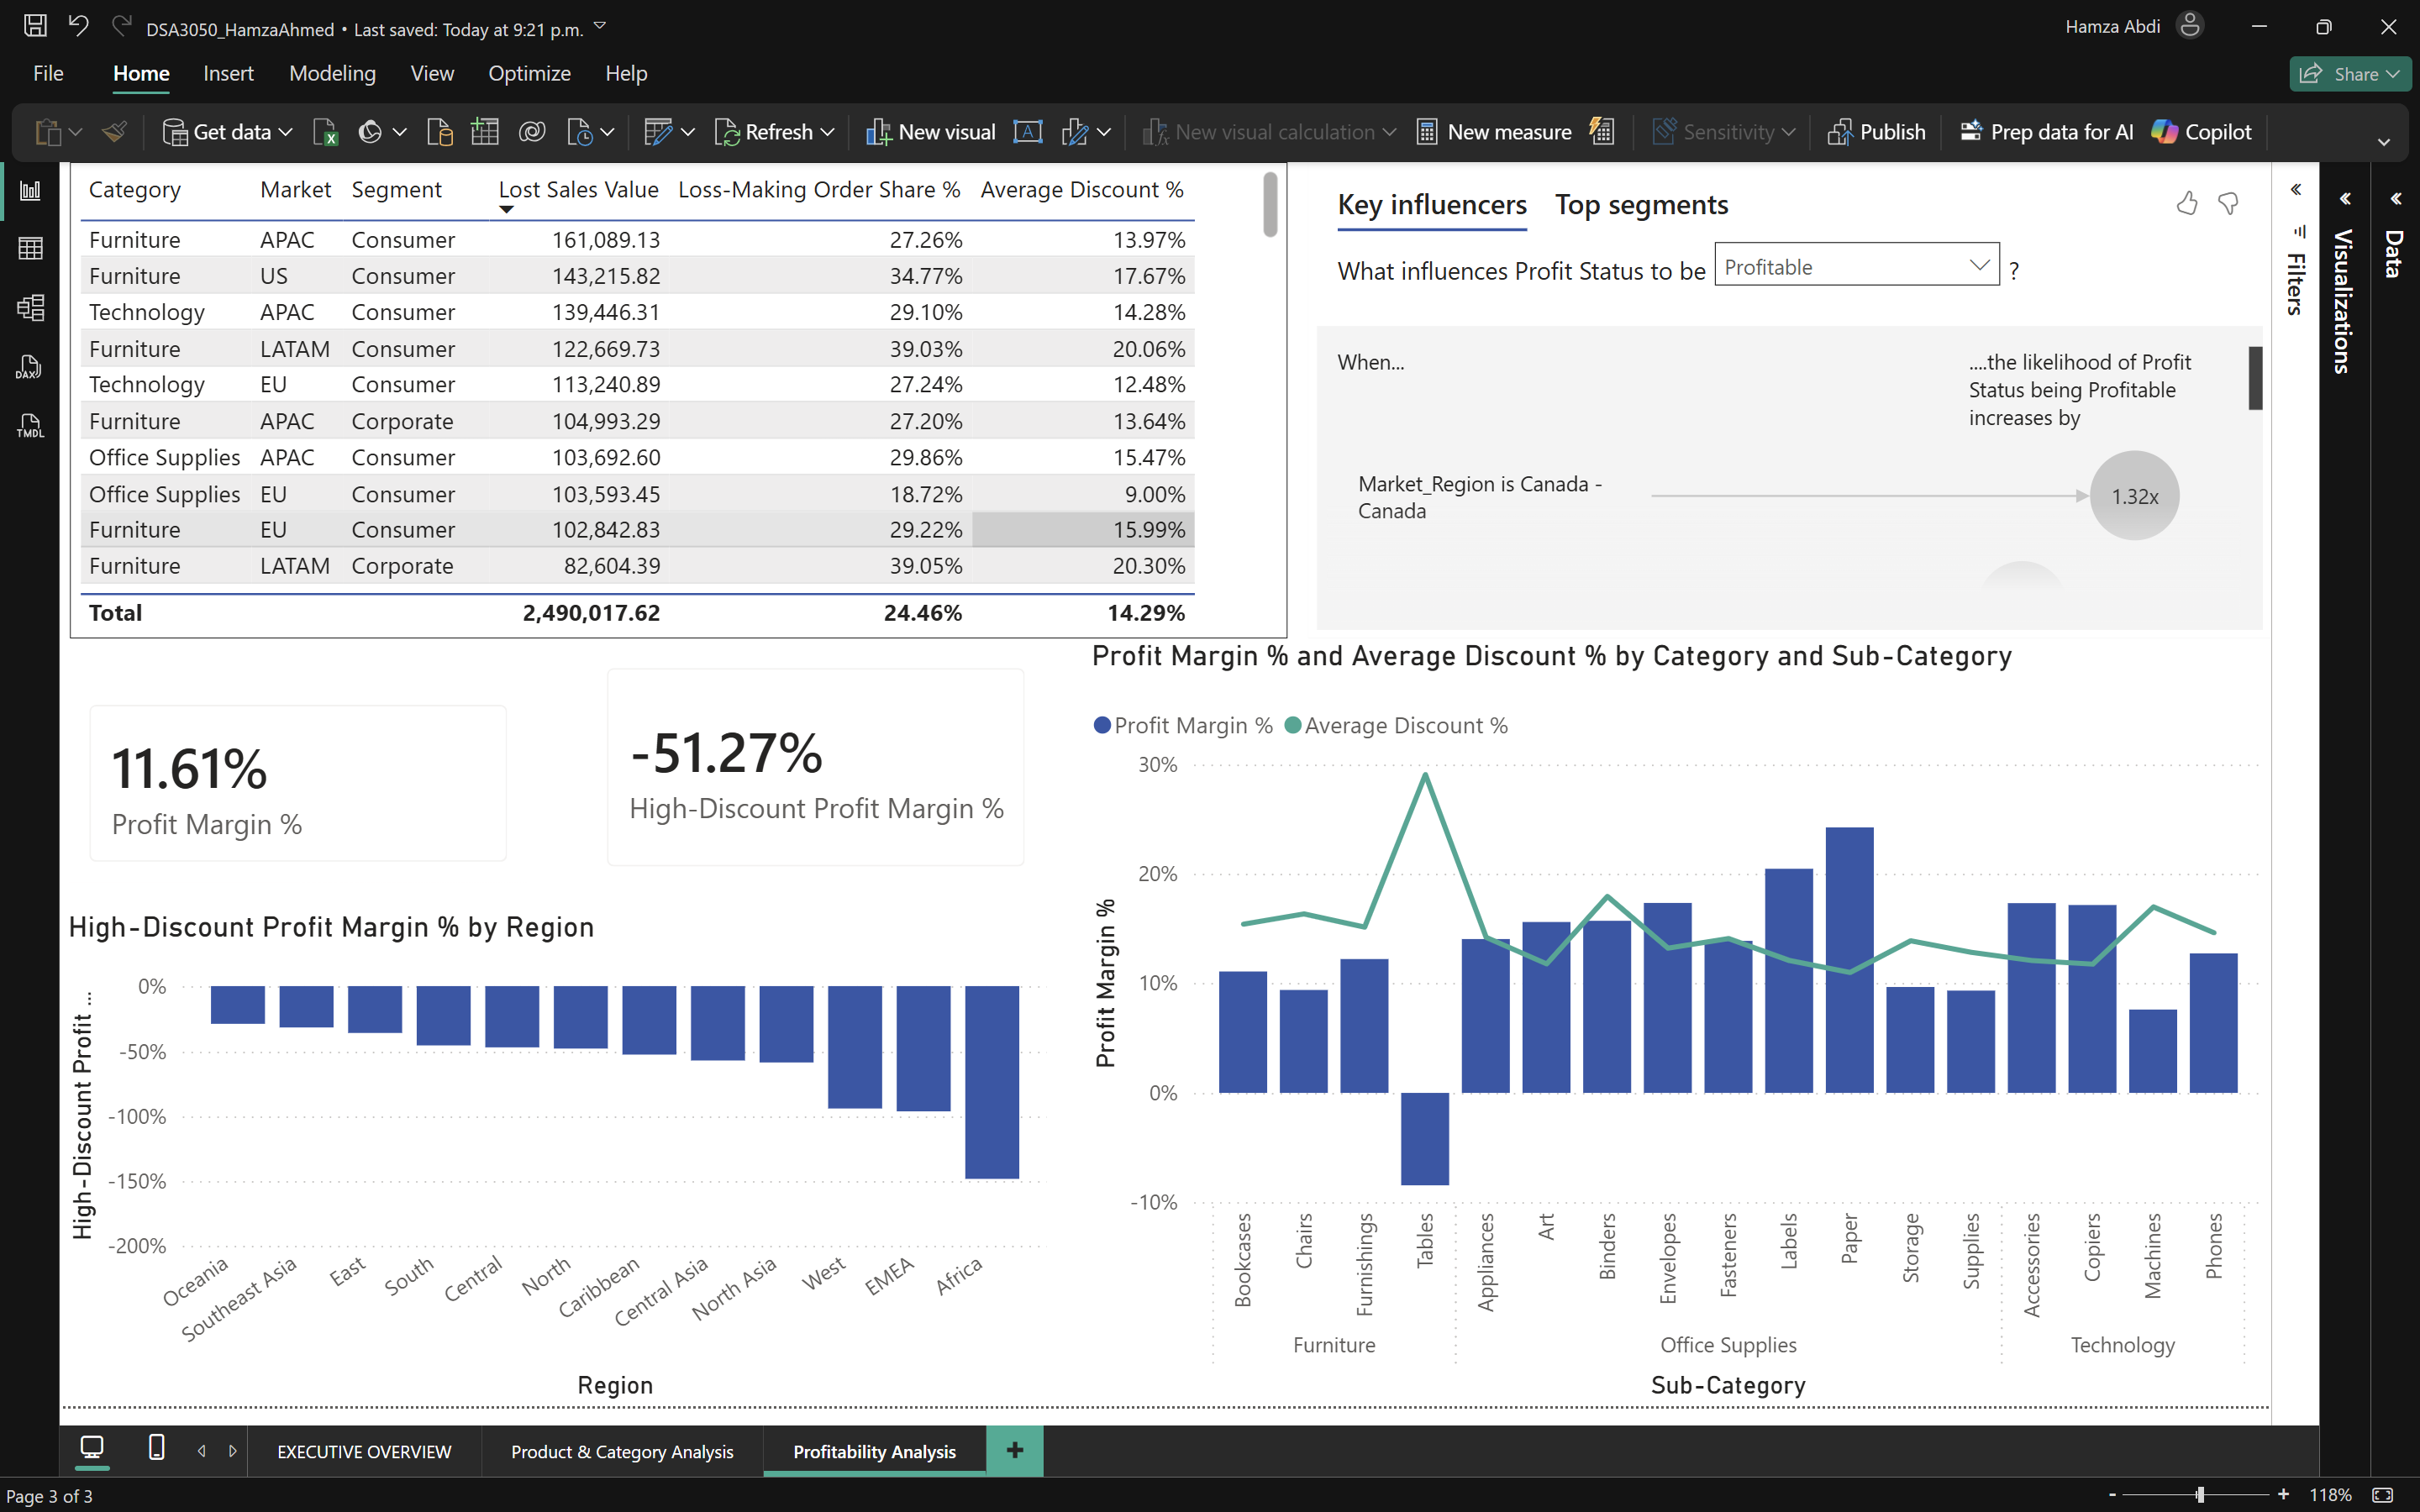

What the dashboard file says about the page in this screenshot:
{"tool":"powerbi","page":{"name":"Profitability Analysis","canvas":[1280,720],"ordinal":2},"visuals":[{"type":"cardVisual","fields":{"Data":["FactOrders.High-Discount Profit Margin %"]},"box":[299.9,275.6,276.7,150],"z":0},{"type":"cardVisual","fields":{"Data":["FactOrders.Profit Margin %"]},"box":[0,296.8,276.7,125.7],"z":1},{"type":"tableEx","fields":{"Values":["DimProduct.Category","DimLocation.Market","DimCustomer.Segment","FactOrders.Lost Sales Value","FactOrders.Loss-Making Order Share %","FactOrders.Average Discount %"]},"box":[6.3,0,704.4,275.6],"z":2},{"type":"lineClusteredColumnComboChart","fields":{"Category":["DimProduct.Category","DimProduct.Sub-Category"],"Y":["FactOrders.Profit Margin %"],"Y2":["FactOrders.Average Discount %"]},"box":[592.5,275.6,687.5,444.6],"z":3},{"type":"clusteredColumnChart","fields":{"Category":["DimLocation.Region"],"Y":["FactOrders.High-Discount Profit Margin %"]},"box":[0,433,576.6,287.3],"z":4},{"type":"keyDriversVisual","fields":{"ExplainBy":["FactOrders.Market_Region"],"Target":["FactOrders.Profit Status"]},"box":[722.4,0,557.6,275.6],"z":5}]}

Visuals, with their boxes on the page's 1280x720 design canvas (x1, y1, x2, y2). These are canvas units, not pixel positions in the 2420x1512 screenshot, which may show the page scaled, cropped or inside an application window:
cardVisual - FactOrders.High-Discount Profit Margin %: 300:276:577:426
cardVisual - FactOrders.Profit Margin %: 0:297:277:422
tableEx - DimProduct.Category x DimLocation.Market: 6:0:711:276
lineClusteredColumnComboChart - DimProduct.Category x DimProduct.Sub-Category: 592:276:1280:720
clusteredColumnChart - DimLocation.Region x FactOrders.High-Discount Profit Margin %: 0:433:577:720
keyDriversVisual - FactOrders.Market_Region x FactOrders.Profit Status: 722:0:1280:276
